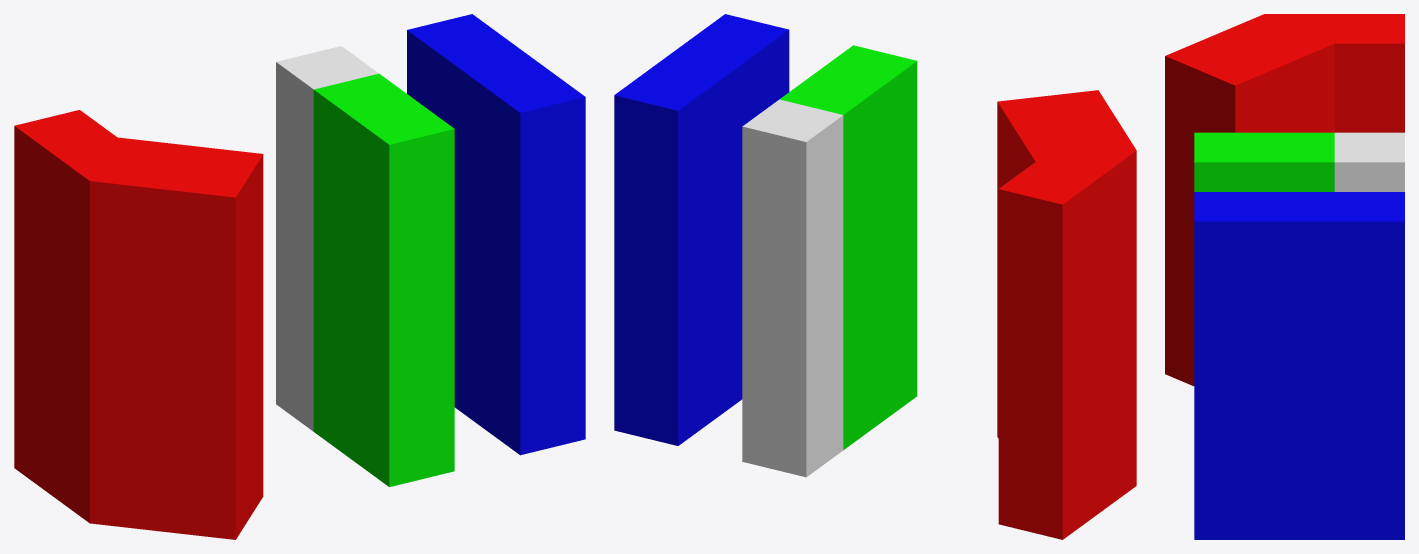
File: serial_test_example_fn_std-sketch-extrude9_output.glb
3 renders of one model, left to right at view 1: azimuth 30°, elevation 25°; view 2: azimuth 150°, elevation 25°; view 3: azimuth 270°, elevation 25°, orthographic. The views are drawn at different scales.
Bounding box in the file's own units: 0.007 × 0.005 × 0.00341.
